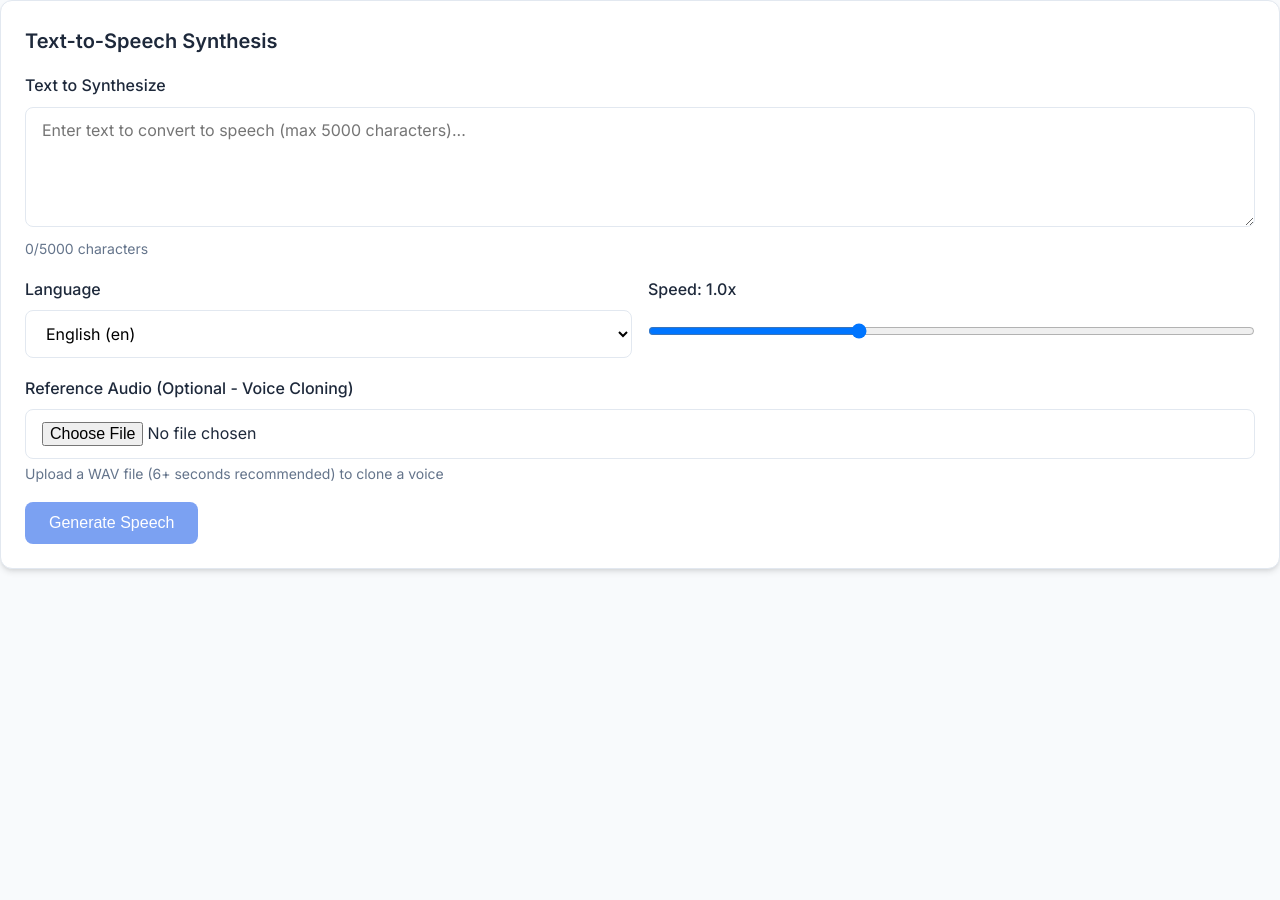
TTSForm › shows error message on API failure
Type "Hello" into the text box labelled "Text to Synthesize". click: (640,167)
box: 25,107 -> 1255,227
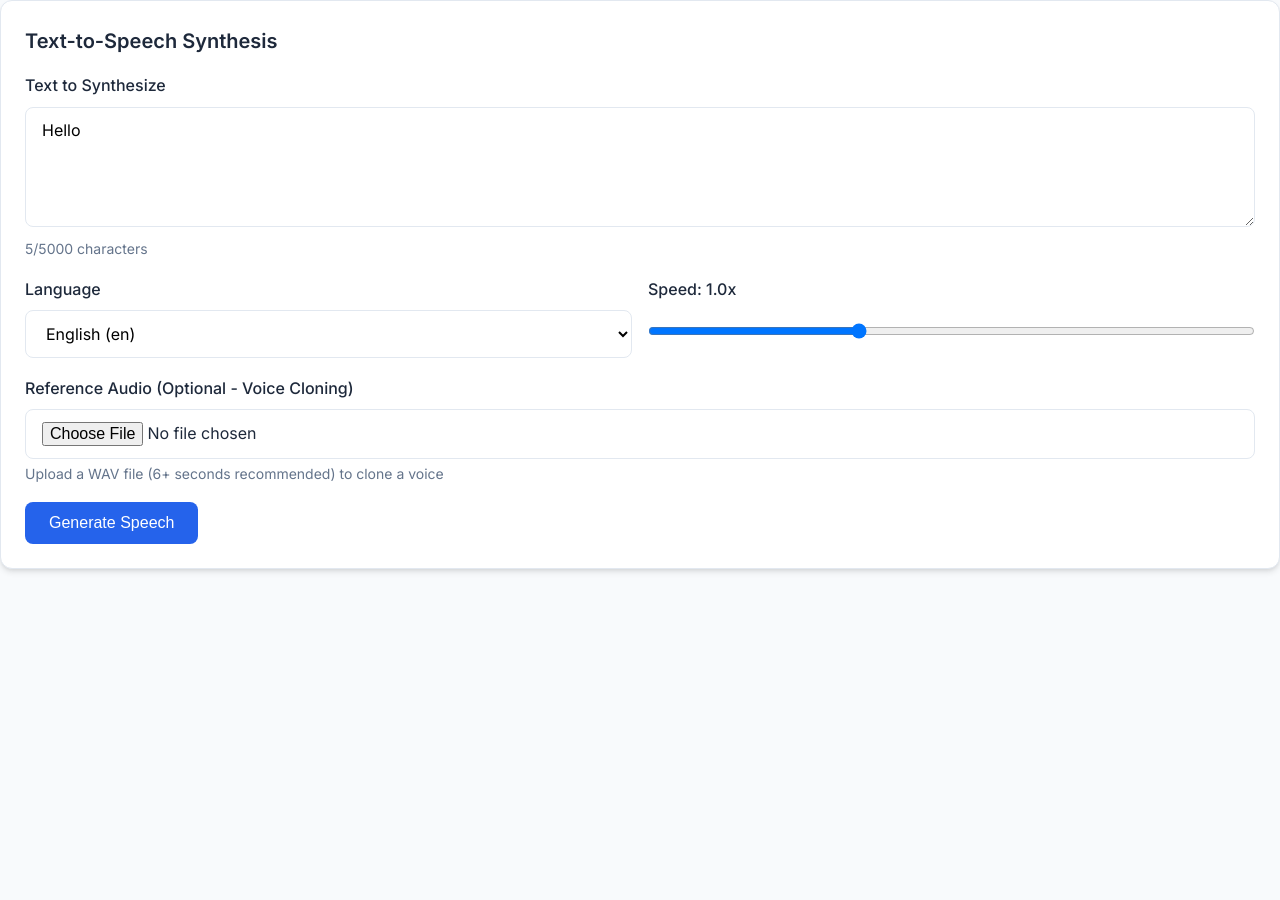
Click the button "Generate Speech". click: (112,523)
box: 25,502 -> 198,544
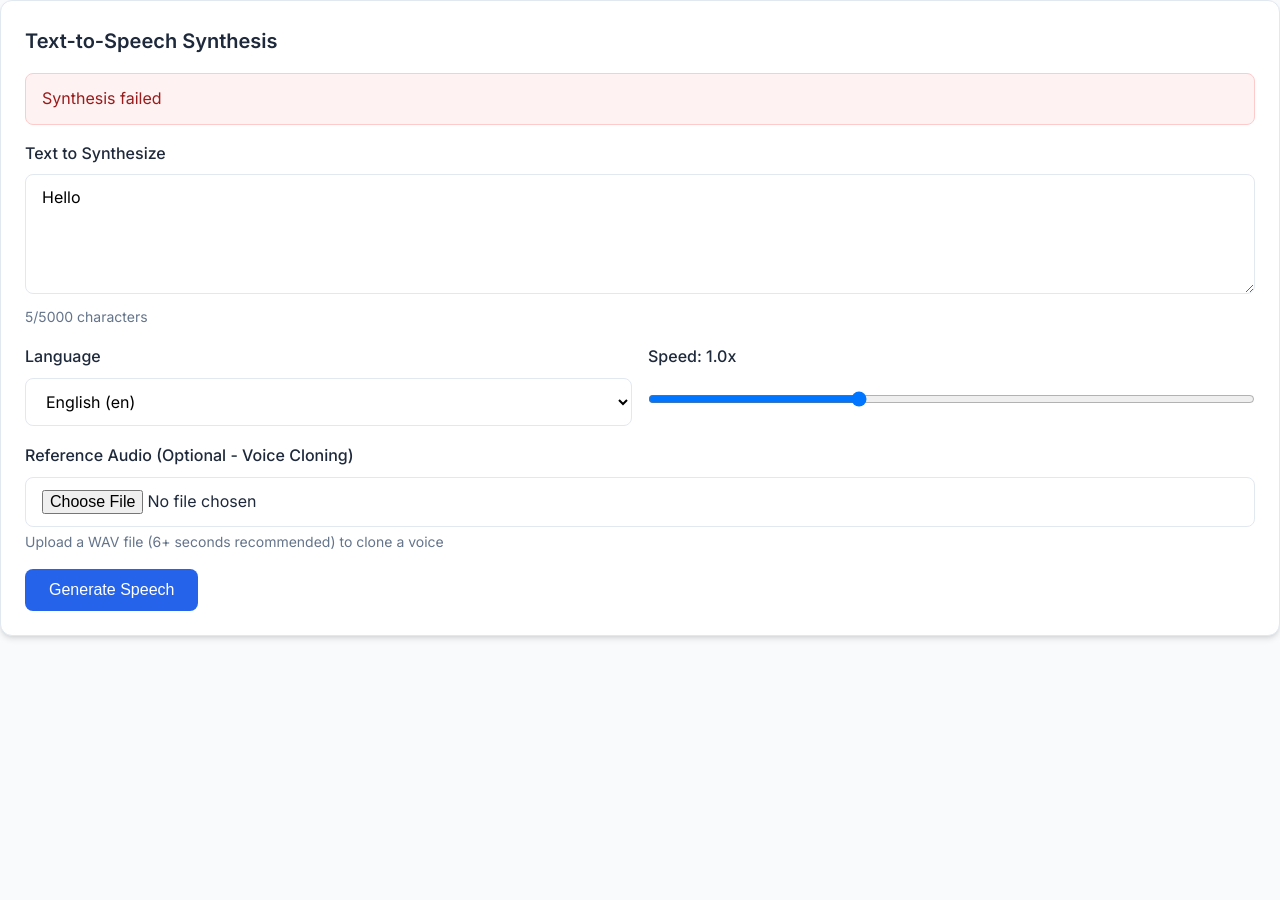
Check: the text "Synthesis failed" is shown, box 25,73 -> 1255,125
